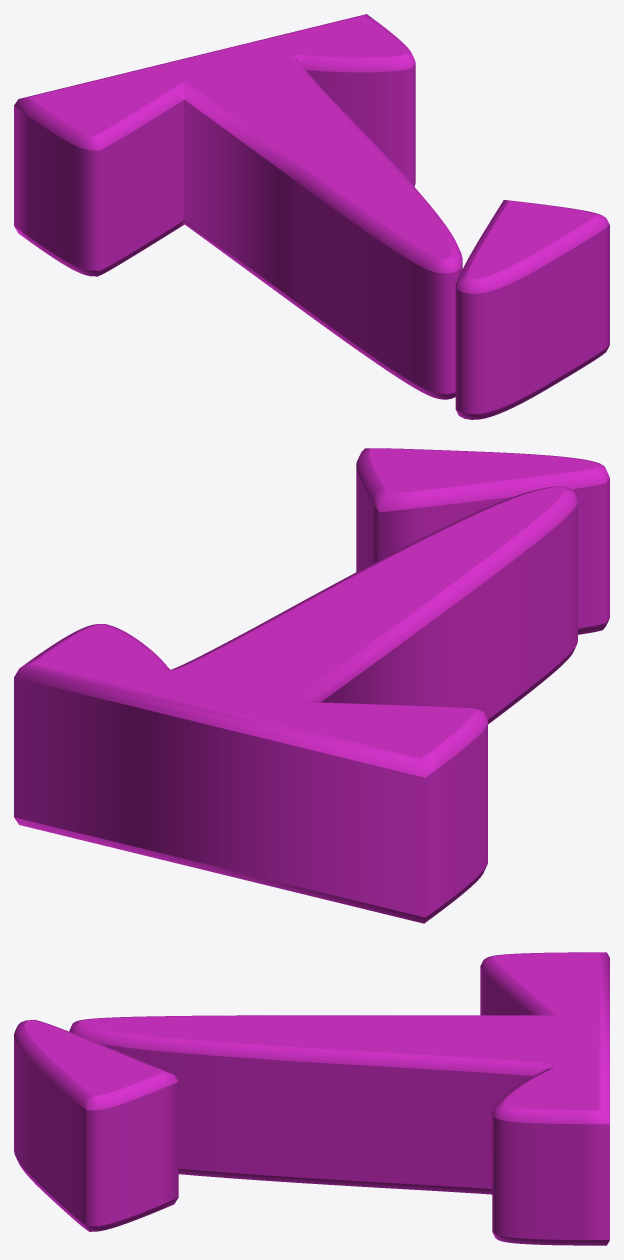
Rendered from Number_1.fbx.
The picture shows the model from 3 angles, top to bottom: view 1: azimuth 30°, elevation 25°; view 2: azimuth 150°, elevation 25°; view 3: azimuth 270°, elevation 25°; orthographic projection. The views are drawn at different scales.
Visible parts, largest first — view 1: Number_1; view 2: Number_1; view 3: Number_1.
Part boxes in pixels (x1,y1,x2,y2): Number_1: (14,14,609,419); Number_1: (14,448,609,923); Number_1: (14,952,609,1245).
Bounding box in the file's own units: 0.3695 × 0.14 × 0.5594.
